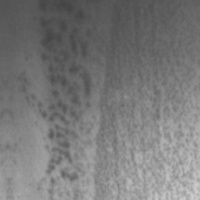pitted_surface: (96, 0, 199, 199), (28, 0, 100, 192)
